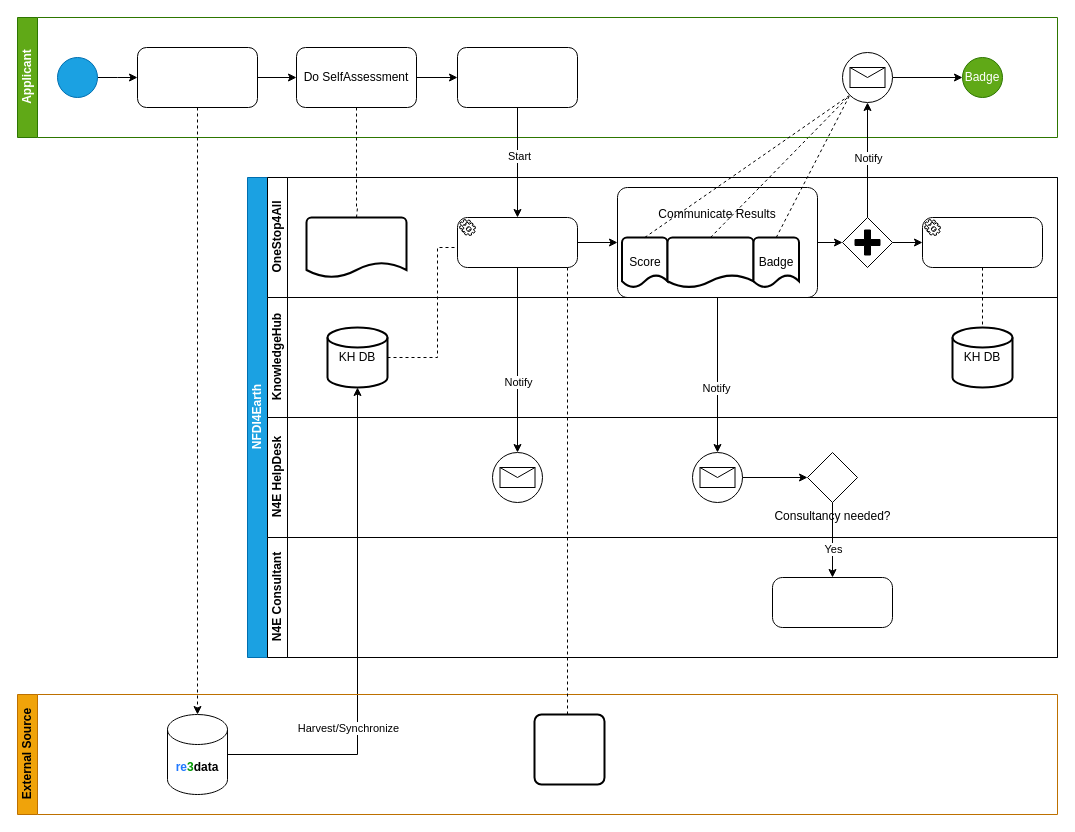
Image size: 1075x832. Some labels were removed from this diagram. The shapes that lost their labels are listed below. From the top down, each one's centre as x and y in pixels, then its label:
At [197,77]: "Update re3data".
At [517,77]: "Apply".
At [356,247]: "SelfAssessment Form".
At [517,242]: "Eval Process".
At [710,262]: "Recom mendations".
At [982,242]: "Update Catalog".
At [832,602]: "Get involved".
At [569,749]: "Fuji-Tool (AAS or self hosted)".
